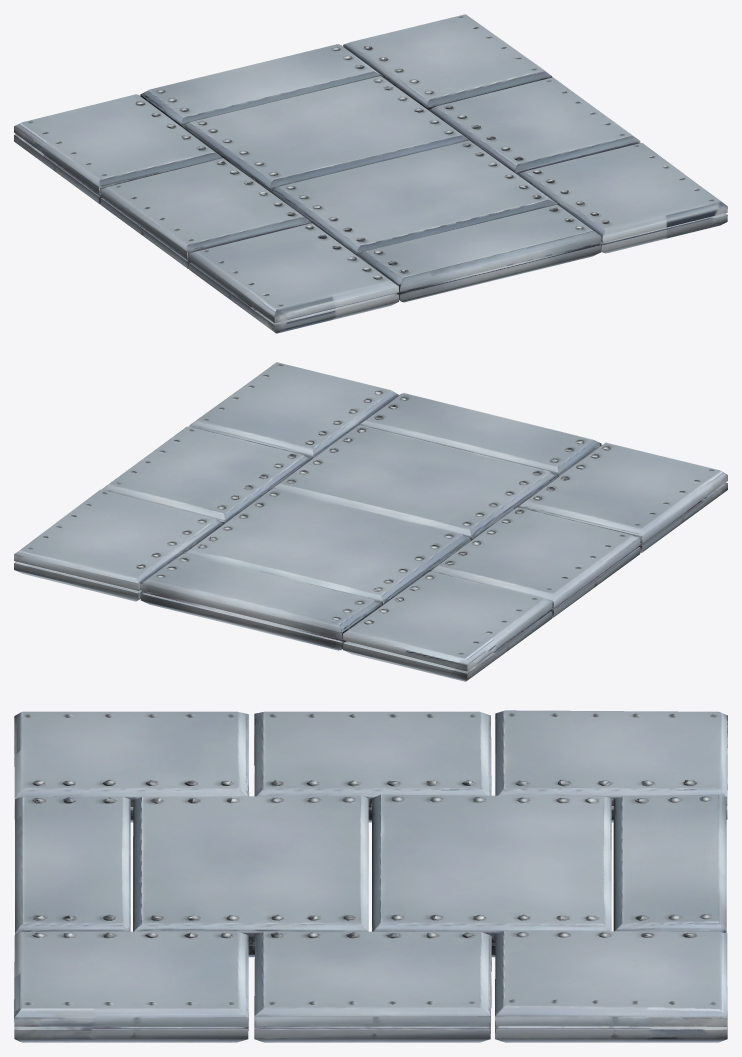
File: blk_cyber_floor.glb
The picture shows the model from 3 angles, top to bottom: view 1: azimuth 30°, elevation 25°; view 2: azimuth 150°, elevation 25°; view 3: azimuth 270°, elevation 25°; orthographic projection. The views are drawn at different scales.
Size of the model in its own units: 0.9565 by 0.0547 by 0.9531.
Materials: 1 (1 with a texture image).
